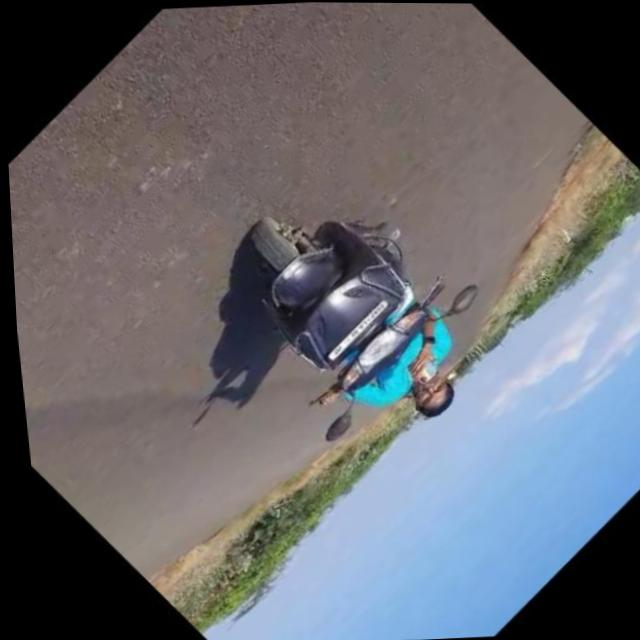USING_MOBILE: (370, 315, 491, 431)
